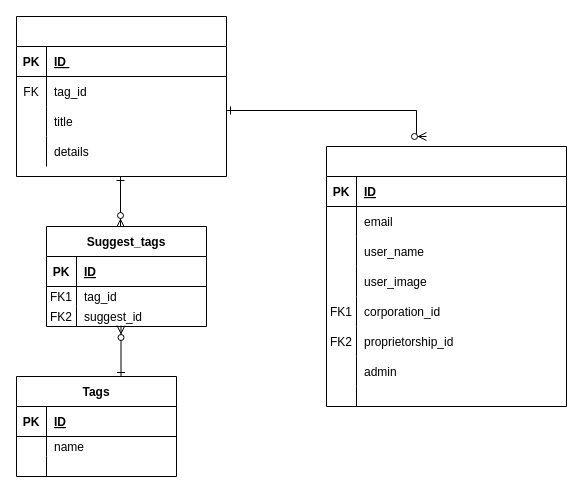
This 583x493 diagram has some shape labels left out. Each missing label, with the box of its shape:
Suggests: (16, 16, 226, 176)
Users: (326, 146, 566, 406)
